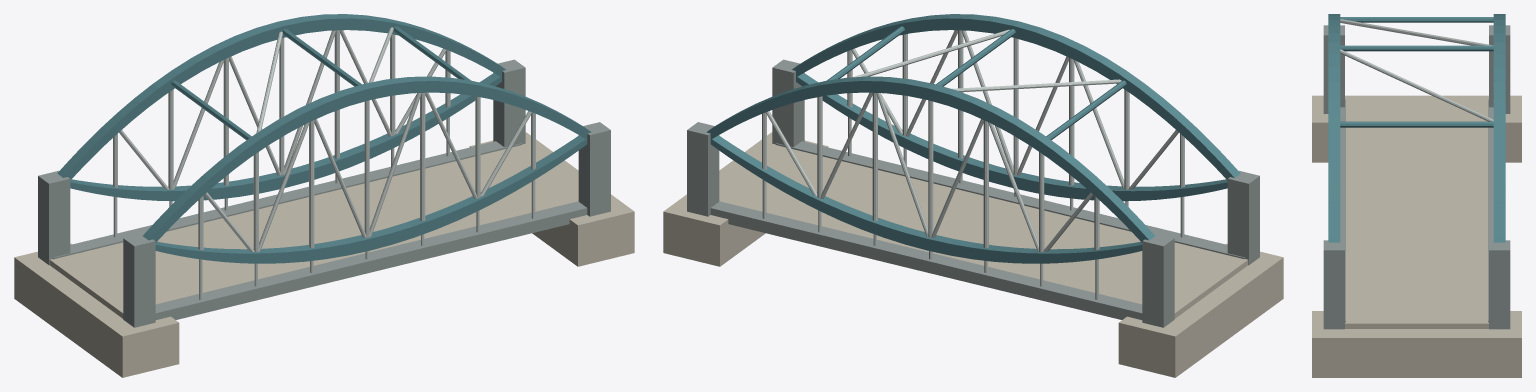
The picture shows the model from 3 angles, left to right: view 1: azimuth 30°, elevation 25°; view 2: azimuth 150°, elevation 25°; view 3: azimuth 270°, elevation 25°; orthographic projection. The views are drawn at different scales.
Visible parts, largest first — view 1: WholeStraightHungDeck, WholeOpposedBowLensFrame-1, WholeOpposedBowLensFrame1, WholeTerminalAbutment-1, WholeStraightDeckEdgeBeam-1, WholeTerminalAbutment1, WholeStraightDeckEdgeBeam1, WholeEndBearingPost-1_-1, WholeEndBearingPost-1_1, WholeEndBearingPost1_-1, WholeEndBearingPost1_1, WholeLensVerticalWeb-1_3 (+17 smaller); view 2: WholeStraightHungDeck, WholeOpposedBowLensFrame1, WholeOpposedBowLensFrame-1, WholeTerminalAbutment-1, WholeStraightDeckEdgeBeam1, WholeTerminalAbutment1, WholeStraightDeckEdgeBeam-1, WholeEndBearingPost-1_1, WholeEndBearingPost-1_-1, WholeEndBearingPost1_1, WholeEndBearingPost1_-1, WholeLensVerticalWeb1_3 (+19 smaller); view 3: WholeStraightHungDeck, WholeTerminalAbutment1, WholeOpposedBowLensFrame-1, WholeOpposedBowLensFrame1, WholeTerminalAbutment-1, WholeEndBearingPost1_-1, WholeEndBearingPost1_1, WholeUpperLensCrossSpreader2, WholeUpperLensCrossSpreader1, WholeEndBearingPost-1_1, WholeEndBearingPost-1_-1, WholeUpperLensCrossSpreader0 (+4 smaller).
Boxes of the visible parts, bbox=[...] form: WholeStraightHungDeck: bbox=[49, 144, 578, 318]; WholeOpposedBowLensFrame-1: bbox=[143, 76, 591, 263]; WholeOpposedBowLensFrame1: bbox=[57, 14, 505, 201]; WholeTerminalAbutment-1: bbox=[14, 243, 179, 377]; WholeStraightDeckEdgeBeam-1: bbox=[155, 201, 587, 319]; WholeTerminalAbutment1: bbox=[469, 132, 634, 266]; WholeStraightDeckEdgeBeam1: bbox=[53, 141, 522, 259]; WholeEndBearingPost-1_-1: bbox=[123, 233, 155, 327]; WholeEndBearingPost-1_1: bbox=[38, 170, 70, 265]; WholeEndBearingPost1_-1: bbox=[578, 122, 610, 216]; WholeEndBearingPost1_1: bbox=[493, 59, 525, 147]; WholeLensVerticalWeb-1_3: bbox=[364, 100, 369, 237]; WholeStraightHungDeck: bbox=[719, 144, 1248, 318]; WholeOpposedBowLensFrame1: bbox=[706, 76, 1154, 263]; WholeOpposedBowLensFrame-1: bbox=[792, 14, 1240, 201]; WholeTerminalAbutment-1: bbox=[1118, 243, 1283, 377]; WholeStraightDeckEdgeBeam1: bbox=[710, 201, 1142, 319]; WholeTerminalAbutment1: bbox=[663, 132, 828, 266]; WholeStraightDeckEdgeBeam-1: bbox=[775, 141, 1244, 259]; WholeEndBearingPost-1_1: bbox=[1142, 233, 1174, 327]; WholeEndBearingPost-1_-1: bbox=[1227, 170, 1259, 265]; WholeEndBearingPost1_1: bbox=[687, 122, 719, 216]; WholeEndBearingPost1_-1: bbox=[772, 59, 804, 147]; WholeLensVerticalWeb1_3: bbox=[928, 100, 933, 237]; WholeStraightHungDeck: bbox=[1345, 99, 1488, 328]; WholeTerminalAbutment1: bbox=[1312, 311, 1521, 377]; WholeOpposedBowLensFrame-1: bbox=[1328, 14, 1340, 242]; WholeOpposedBowLensFrame1: bbox=[1493, 14, 1505, 242]; WholeTerminalAbutment-1: bbox=[1312, 95, 1521, 162]; WholeEndBearingPost1_-1: bbox=[1323, 240, 1344, 329]; WholeEndBearingPost1_1: bbox=[1489, 240, 1510, 329]; WholeUpperLensCrossSpreader2: bbox=[1340, 121, 1493, 127]; WholeUpperLensCrossSpreader1: bbox=[1340, 45, 1493, 51]; WholeEndBearingPost-1_1: bbox=[1489, 25, 1510, 113]; WholeEndBearingPost-1_-1: bbox=[1323, 25, 1344, 113]; WholeUpperLensCrossSpreader0: bbox=[1340, 17, 1493, 22].
Bounding box in the file's own units: 7.76 × 3.2 × 2.84.
